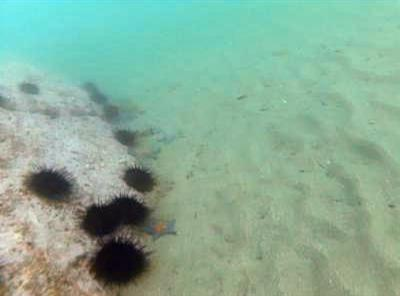urchin: (89, 235, 152, 285), (30, 165, 77, 206), (81, 199, 123, 234), (108, 193, 150, 225), (122, 162, 159, 195), (115, 127, 138, 149), (101, 102, 122, 119), (19, 80, 40, 96), (90, 89, 108, 105), (80, 79, 99, 94)
